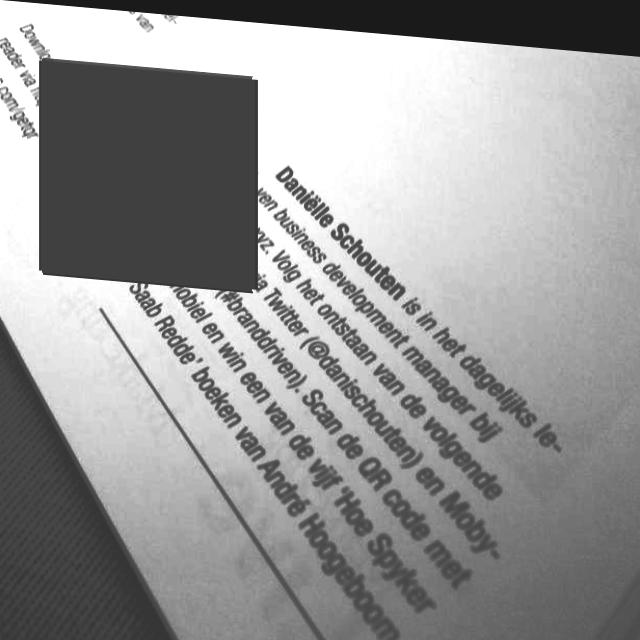qr_code: (42, 58, 255, 287)
